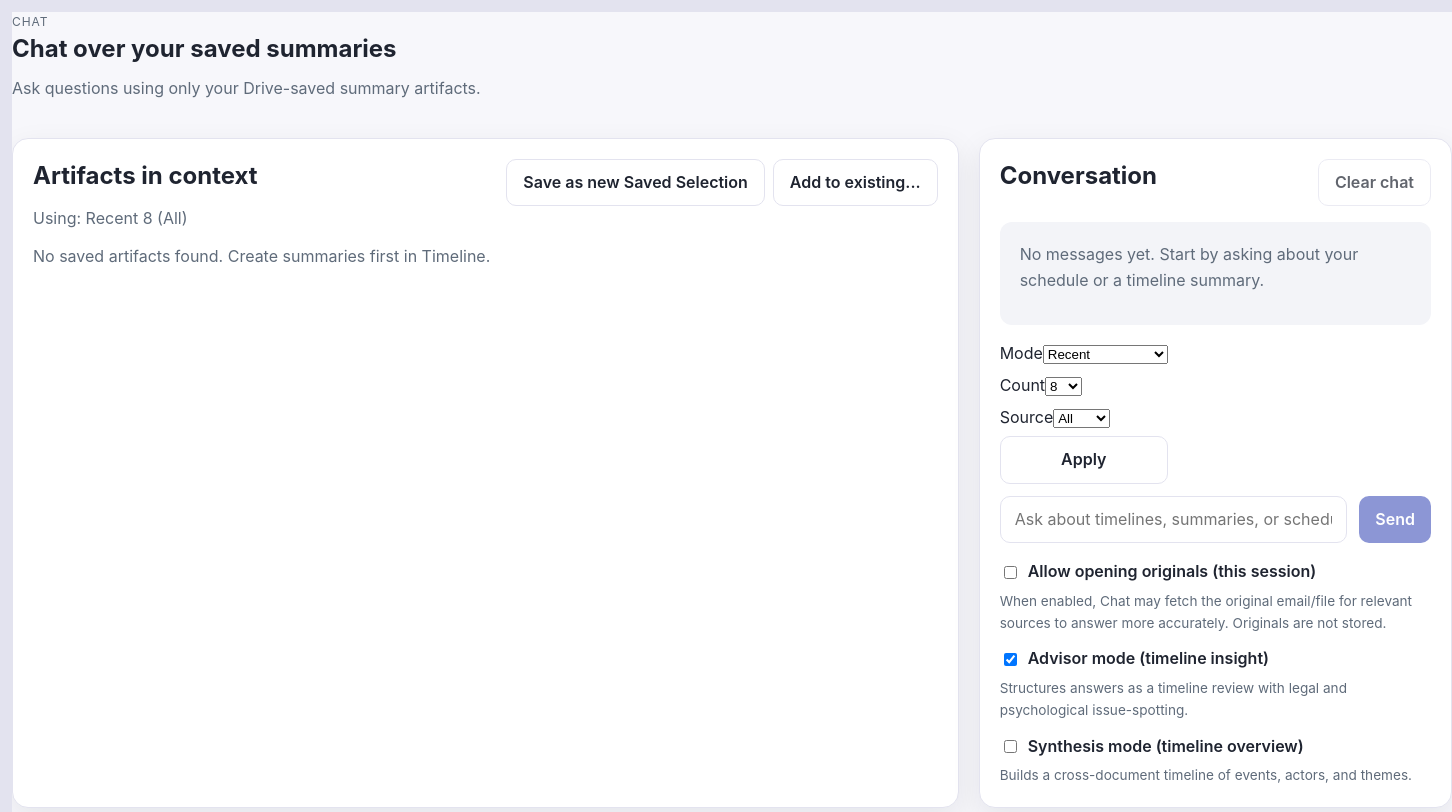
Scenario: ChatPageClient › shows mapped provider error message for code provider_forbidden
In the field named "chat input": (1174, 520) [1000,496,1347,543], type "trigger error"
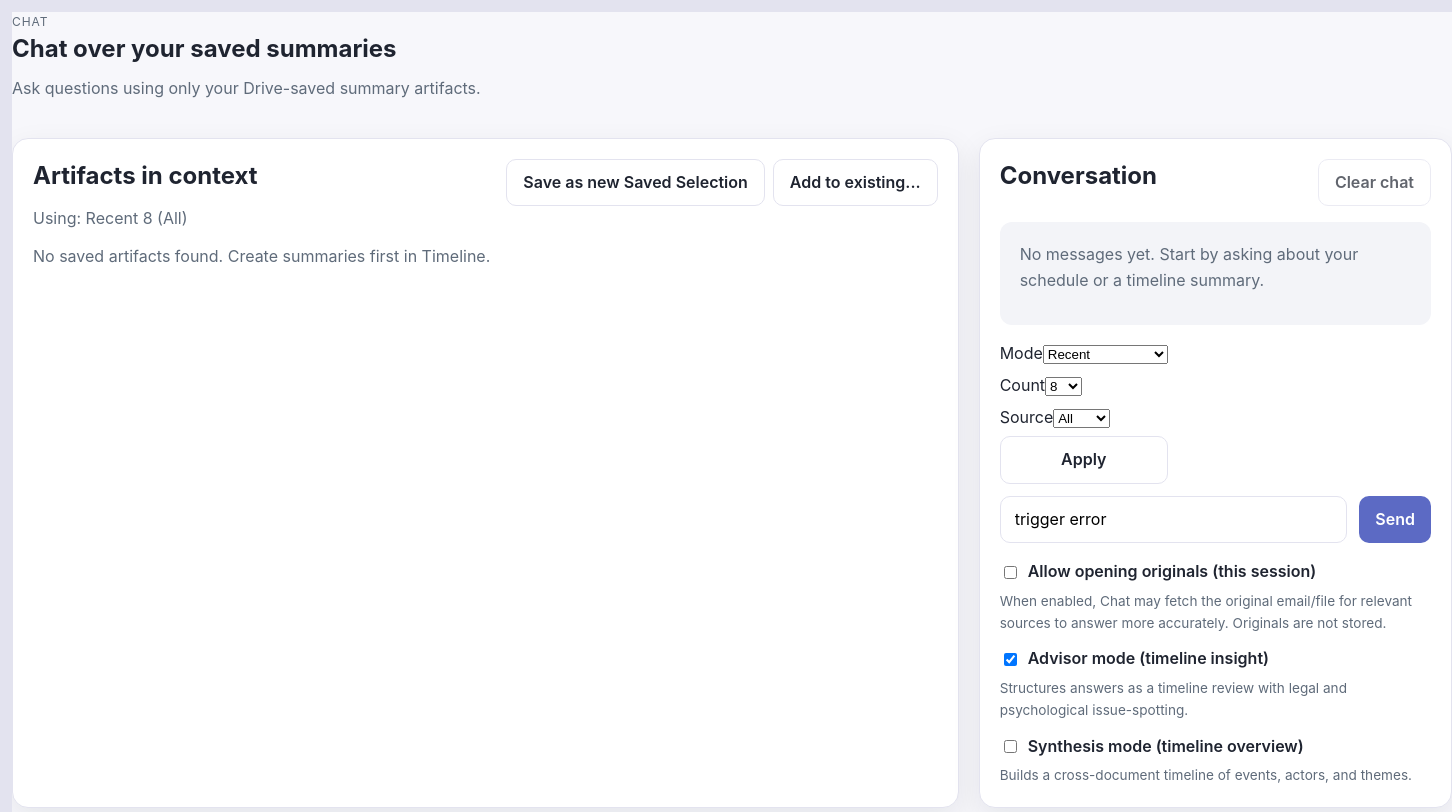
Click the button "Send": click(1395, 520) [1359,496,1431,543]
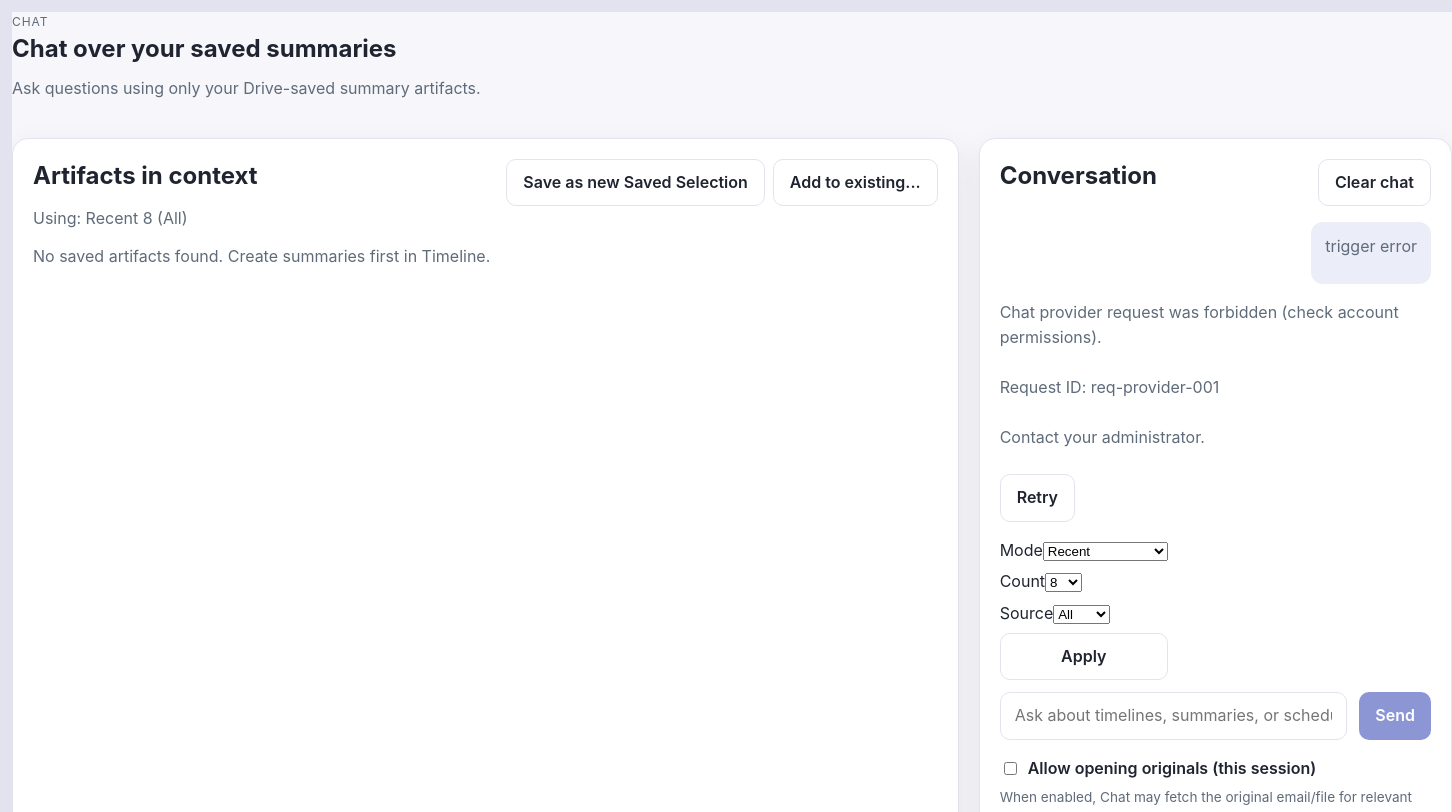
Expected: the text "Chat provider request was forbidden (check account permissions)." is shown, [1000,300,1431,351]
Expected: the text "Request ID: req-provider-001" is shown, [1000,377,1219,397]
